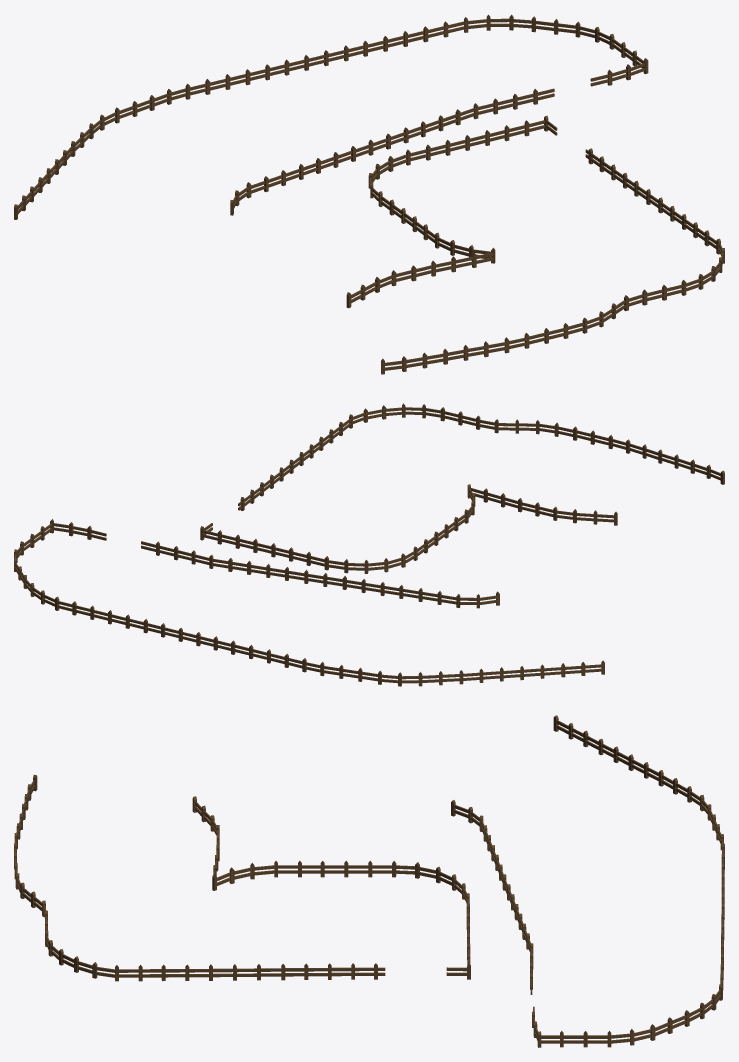
Rendered from SM_Fence_String_Flat.fbx.
3 renders of one model, top to bottom at view 1: azimuth 30°, elevation 25°; view 2: azimuth 150°, elevation 25°; view 3: azimuth 270°, elevation 25°, orthographic. The views are drawn at different scales.
Visible parts, largest first — view 1: Fence String Flat; view 2: Fence String Flat; view 3: Fence String Flat.
Part boxes in pixels (x1=…): Fence String Flat: x1=14, y1=14, x2=724, y2=374; Fence String Flat: x1=14, y1=403, x2=724, y2=686; Fence String Flat: x1=14, y1=715, x2=724, y2=1047.
Size of the model in its own units: 9967 by 225 by 9418.
